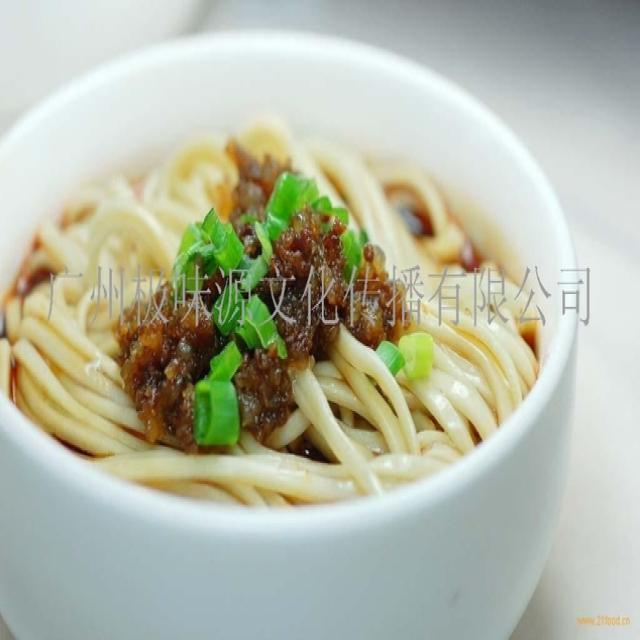面条主食: (9, 43, 602, 602)
